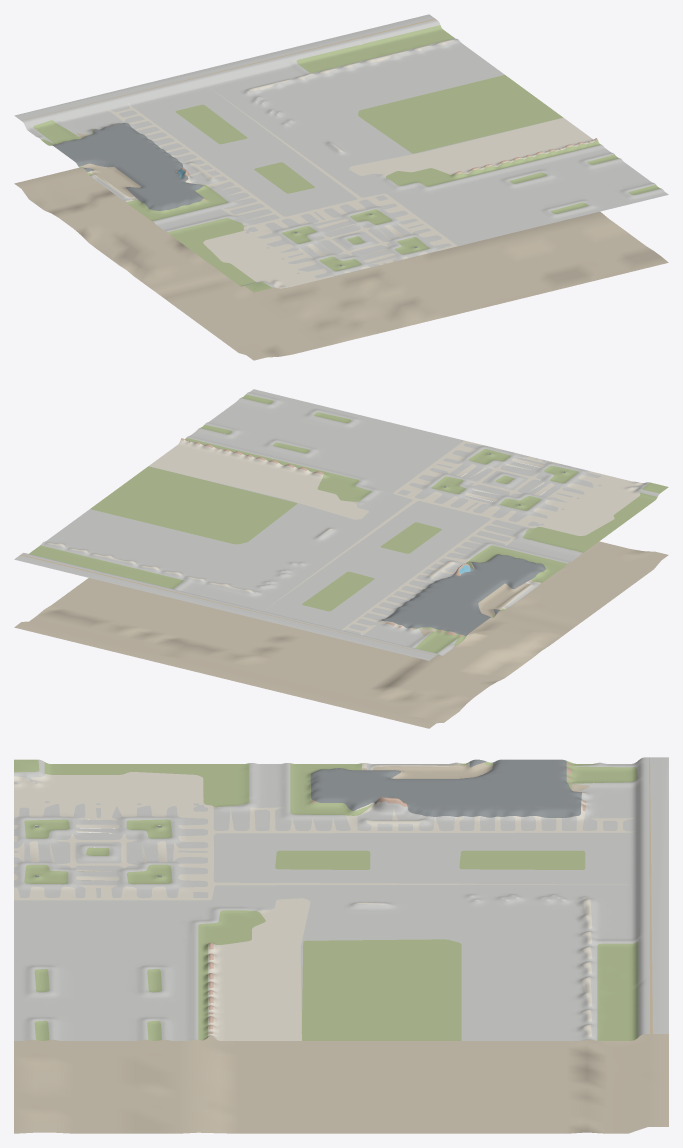
The picture shows the model from 3 angles, top to bottom: view 1: azimuth 30°, elevation 25°; view 2: azimuth 150°, elevation 25°; view 3: azimuth 270°, elevation 25°; orthographic projection. The views are drawn at different scales.
Visible parts, largest first — view 1: s_-6_1__stone_paving, s_-6_1__soil, s_-6_1__grass, s_-6_1__paving, s_-6_1__asphalt, s_-6_1__timber_deck; view 2: s_-6_1__stone_paving, s_-6_1__soil, s_-6_1__grass, s_-6_1__paving, s_-6_1__asphalt, s_-6_1__timber_deck; view 3: s_-6_1__stone_paving, s_-6_1__soil, s_-6_1__grass, s_-6_1__paving, s_-6_1__asphalt, s_-6_1__timber_deck, s_-6_1__brick_paving.
Part boxes in pixels (<box>): s_-6_1__stone_paving: <box>14,14,668,287</box>; s_-6_1__soil: <box>14,133,668,360</box>; s_-6_1__grass: <box>33,25,660,292</box>; s_-6_1__paving: <box>88,40,596,288</box>; s_-6_1__asphalt: <box>52,123,417,266</box>; s_-6_1__timber_deck: <box>21,18,435,120</box>; s_-6_1__stone_paving: <box>14,389,659,660</box>; s_-6_1__soil: <box>14,528,668,728</box>; s_-6_1__grass: <box>29,394,668,653</box>; s_-6_1__paving: <box>46,440,645,635</box>; s_-6_1__asphalt: <box>381,453,566,635</box>; s_-6_1__timber_deck: <box>20,554,436,655</box>; s_-6_1__stone_paving: <box>14,757,668,1040</box>; s_-6_1__soil: <box>14,762,668,1133</box>; s_-6_1__grass: <box>14,759,638,1040</box>; s_-6_1__paving: <box>14,762,635,1040</box>; s_-6_1__asphalt: <box>34,759,581,877</box>; s_-6_1__timber_deck: <box>649,757,652,1033</box>; s_-6_1__brick_paving: <box>208,763,586,1036</box>.
Size of the model in its own units: 128 by 22.71 by 128.
